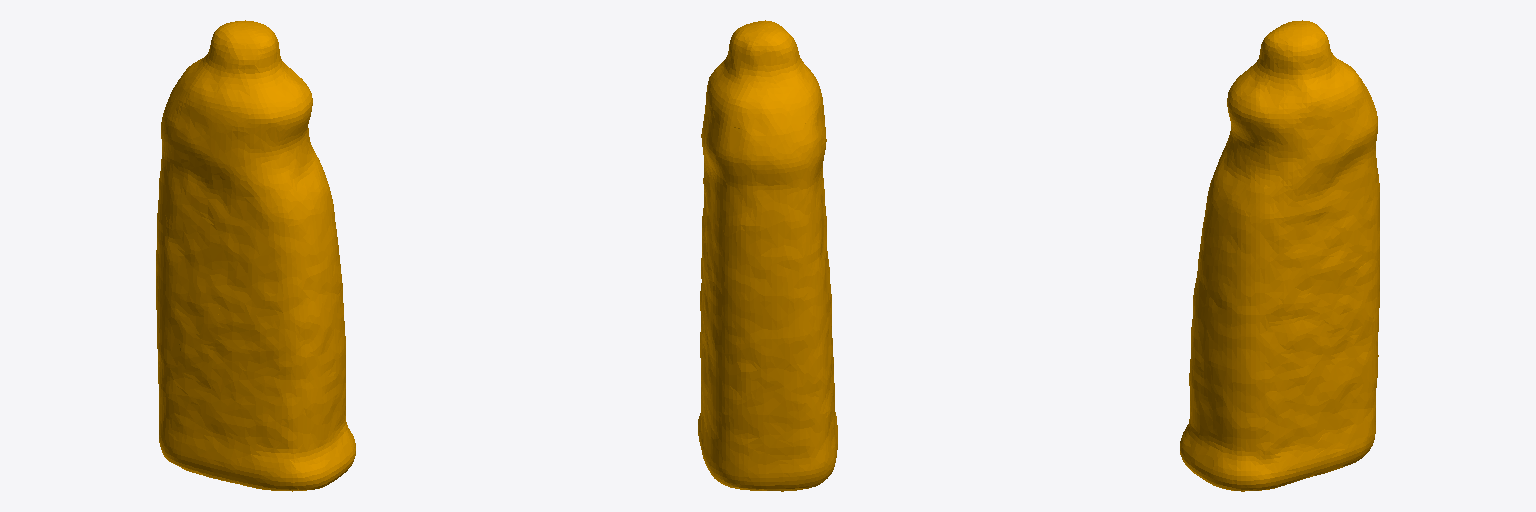
URDF robot description (bleacher_cleanser):
<?xml version="1.0"?>
<robot name="bleacher_cleanser">
  <link name="base_link">
    <inertial>
      <origin xyz="-0.013586 0.002470 0.106013" rpy="0 0 0" />
      <mass value="1.135855" />
      <inertia ixx="0.00514824" ixy="0.00016102" ixz="0.00008228"
               iyy="0.00498892" iyz="-0.00025396" izz="0.00100596" />
    </inertial>
    <visual>
      <geometry><mesh filename="bleacher_cleanser.stl" scale="1.0 1.0 1.0" /></geometry>
    </visual>
    <collision>
      <geometry><mesh filename="bleacher_cleanser_col.obj" scale="1.0 1.0 1.0" /></geometry>
    </collision>
    <!-- PyBullet reads this URDF extension directly (setup/plane.urdf already
         does). Without it every object falls back to PyBullet's default 0.5,
         and since Bullet MULTIPLIES the two bodies' coefficients that left an
         effective mu of 0.25 against the fingers, which is why the grip
         force had to be pushed to 50N to hold anything. -->
    <contact>
      <lateral_friction value="1.0"/>
    </contact>
  </link>
</robot>

--- What the picture shows (computed from the rendered views, not written in the file) ---
3 views of the same robot in one strip: view 1: azimuth 30°, elevation 25°; view 2: azimuth 150°, elevation 25°; view 3: azimuth 270°, elevation 25° (orthographic).
Model bleacher_cleanser with 1 links and 0 joints (none), rooted at base_link, posed every joint at zero.
Links seen in each view (by area): view 1: base_link; view 2: base_link; view 3: base_link.
Link boxes in pixels (x1,y1,x2,y2): base_link: (156, 20, 355, 491); base_link: (698, 20, 837, 491); base_link: (1180, 20, 1379, 491).
Bounding box of the posed robot: 0.0918 × 0.1041 × 0.2485 m (x, y, z).
Meshes: 1 distinct files referenced, 1 mesh visuals loaded (1 binary STL).
